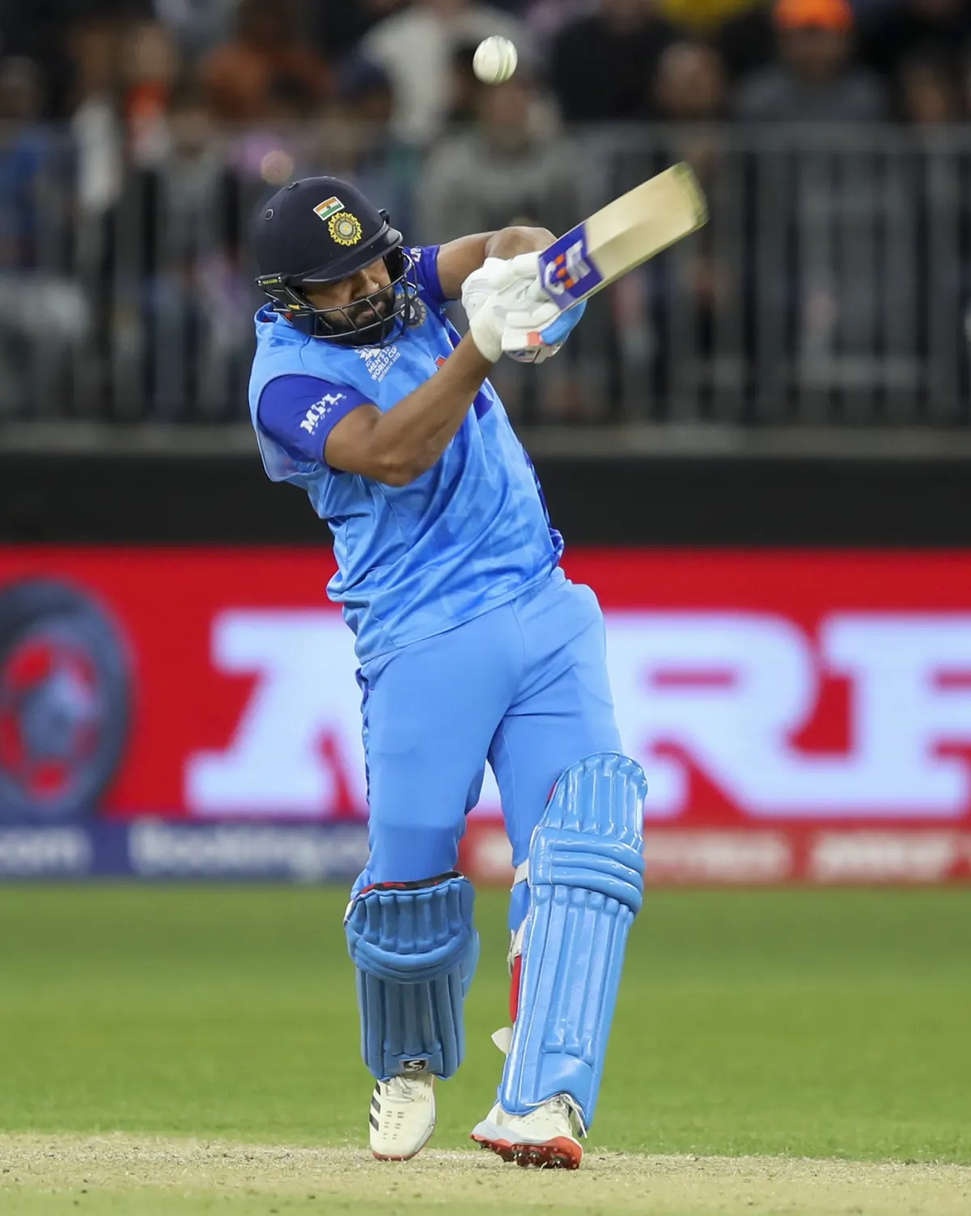Pullshot: (142, 2, 876, 1216)
